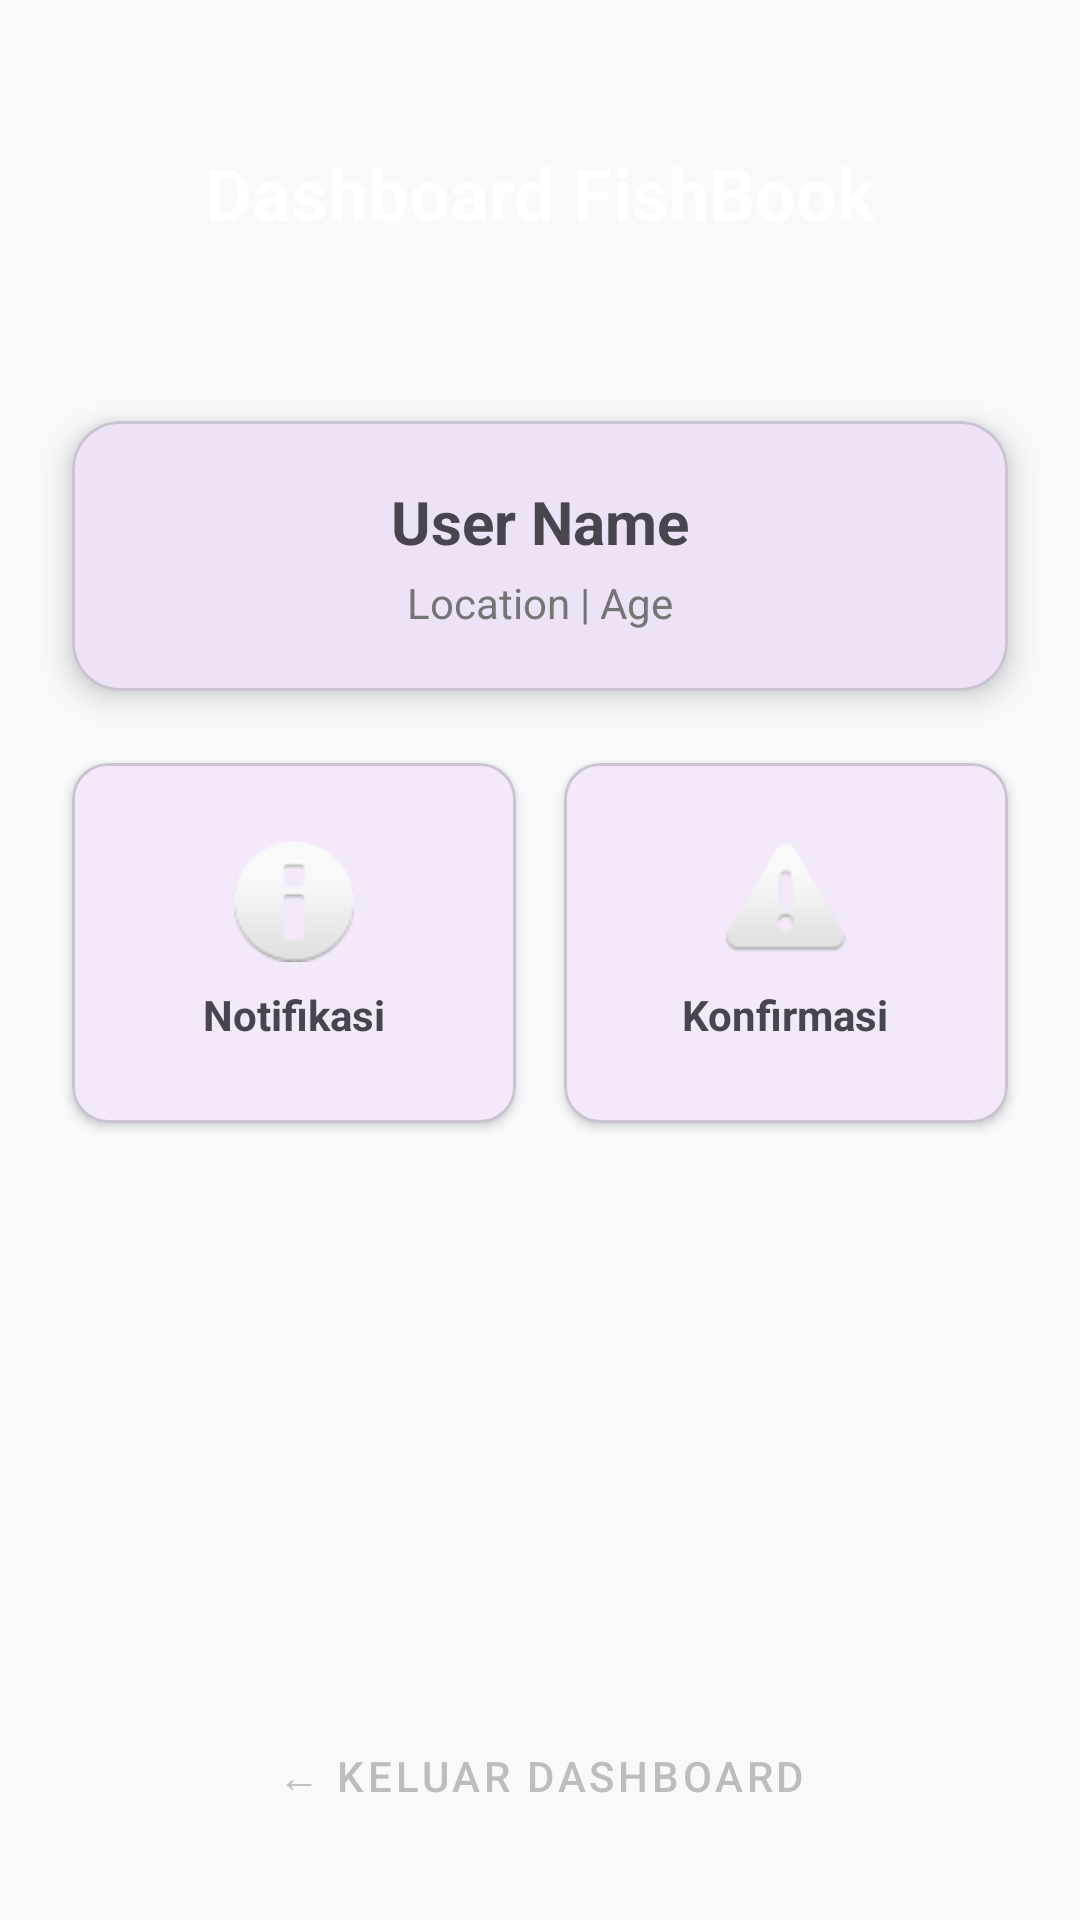

Locate icon controls on the screen. Image size 1080px×1920px, boxes as box(x1, y1, x2, y2).
info: box(234, 842, 354, 962)
